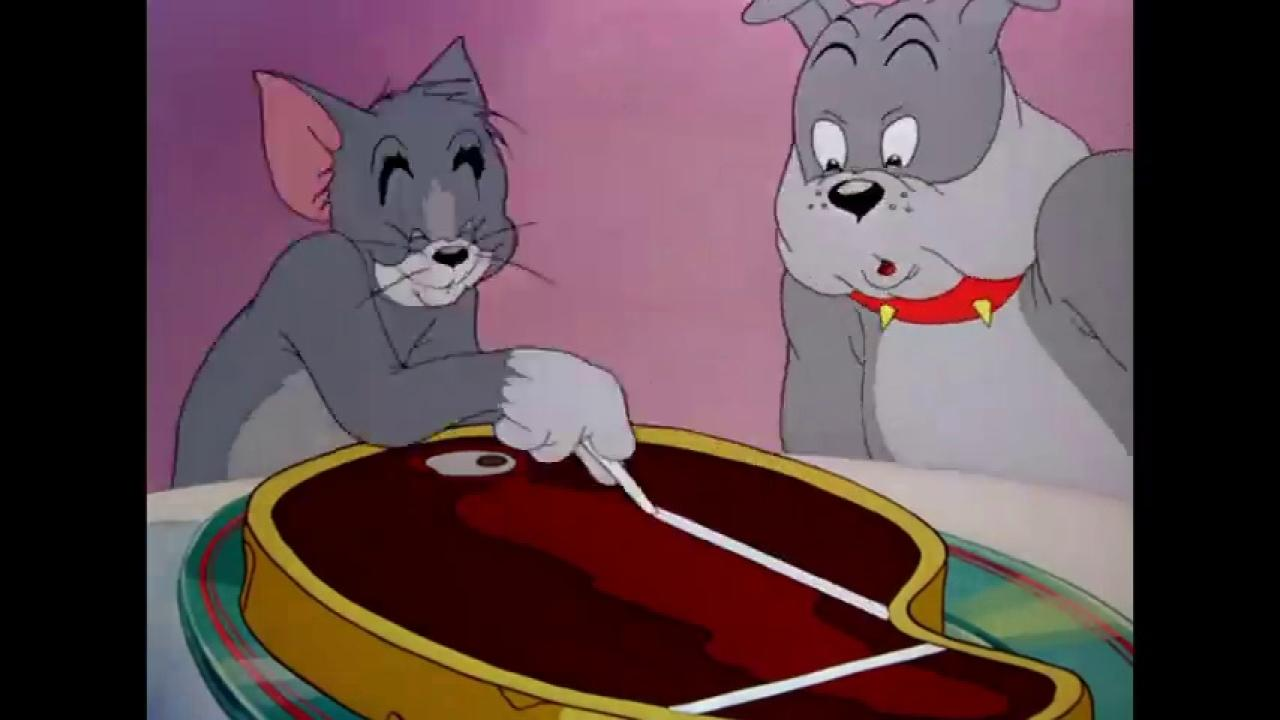Tom: (168, 32, 638, 492)
